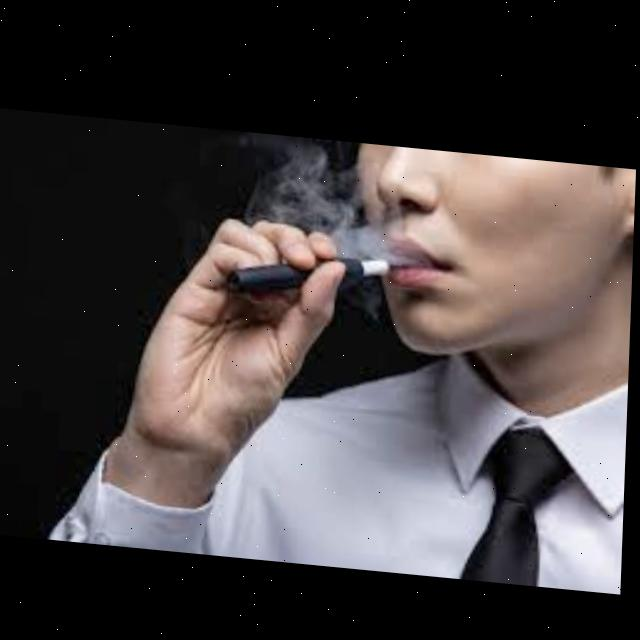vape: (230, 237, 394, 297)
